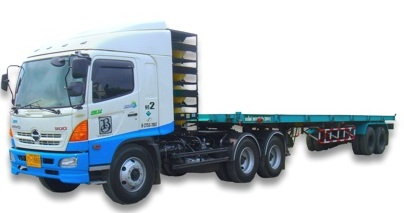truck: (5, 20, 396, 205)
